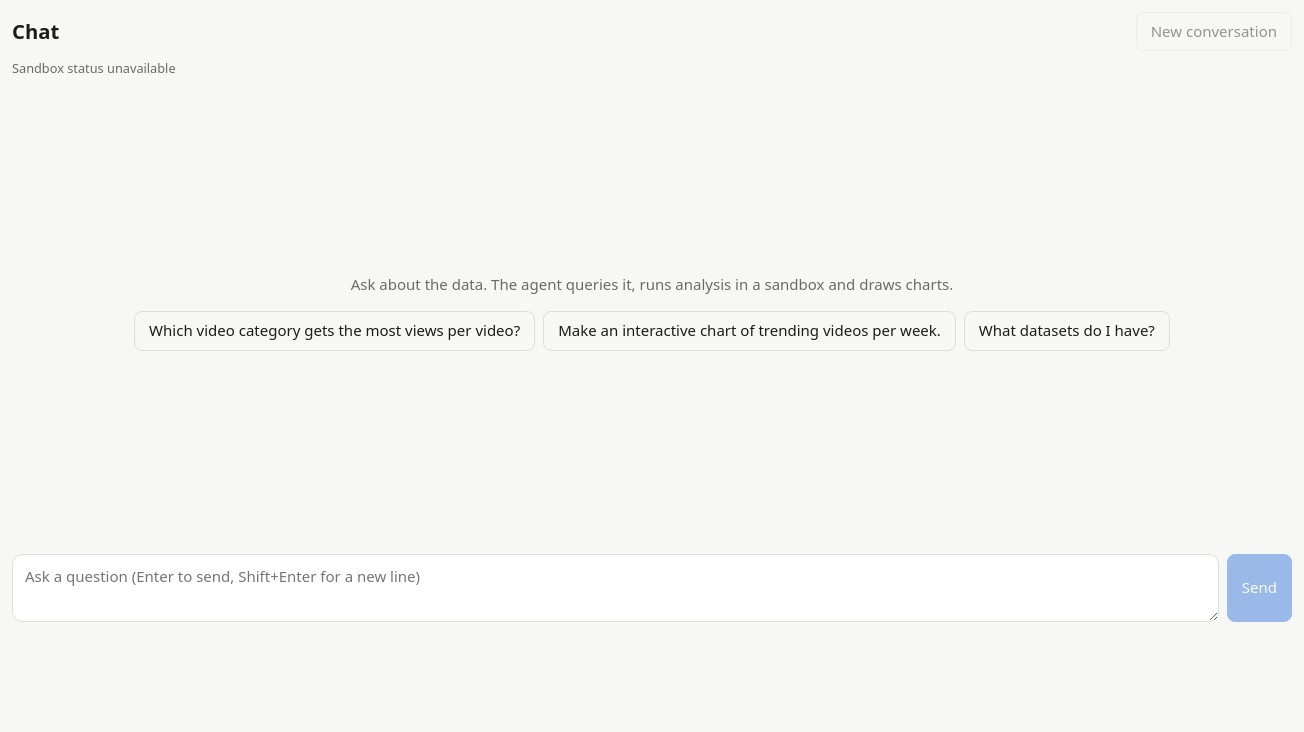
it: ChatPage › does not render HTML the model writes in its answer
Type "hi" into the text box named "Message".
click(615, 588); type("hi")  # box [12,554,1219,622]
Then press Enter
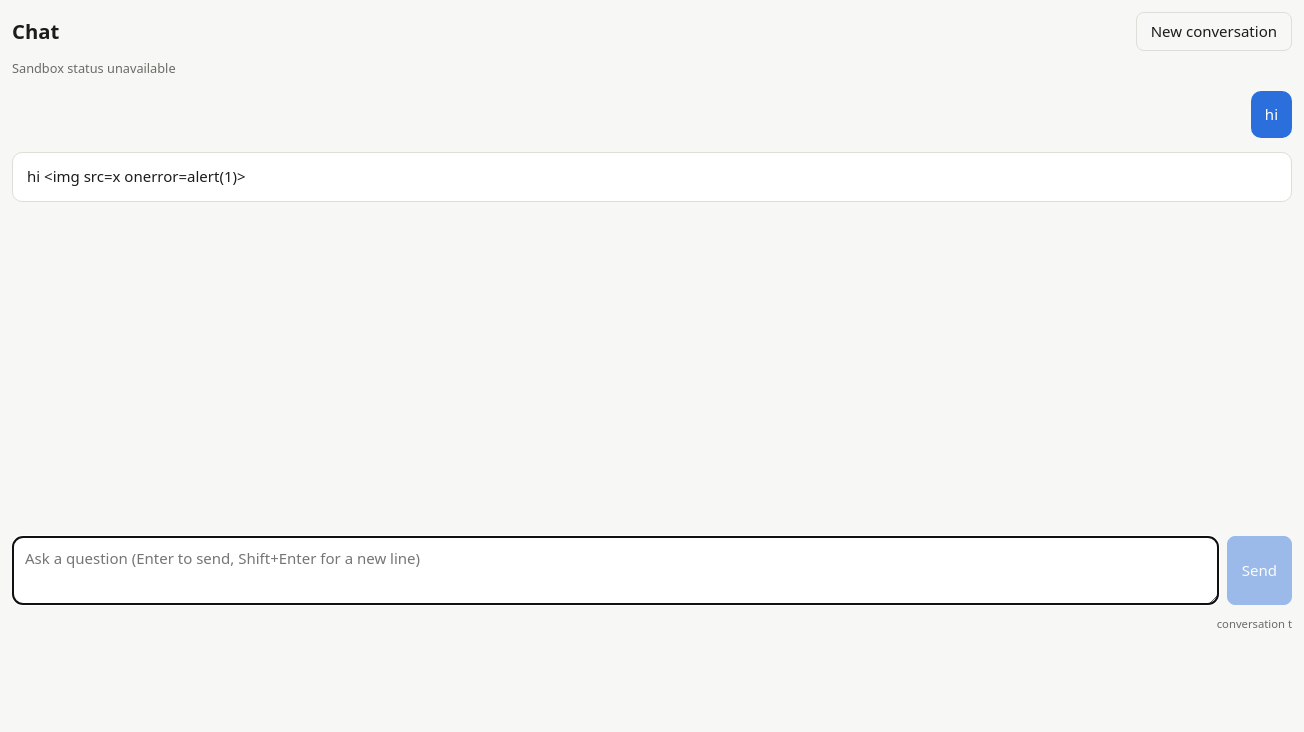
Now the text "hi <img src=x onerror=alert(1)>" is shown, box [27,166,246,186]
